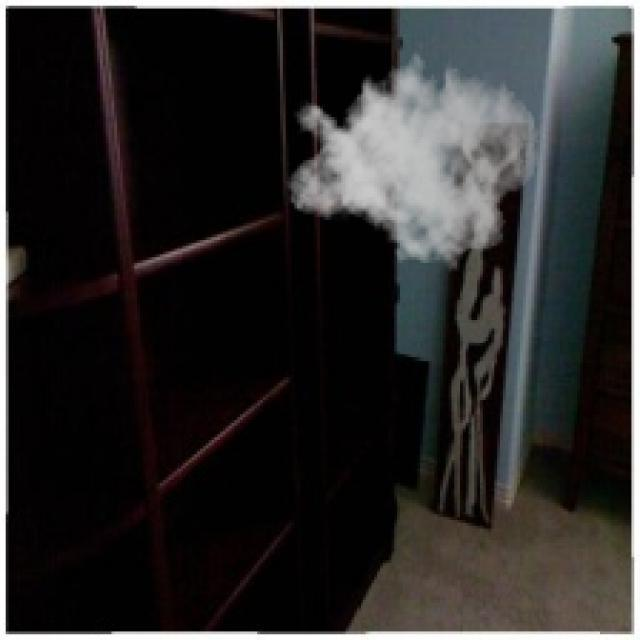Smoke: (286, 40, 540, 277)
